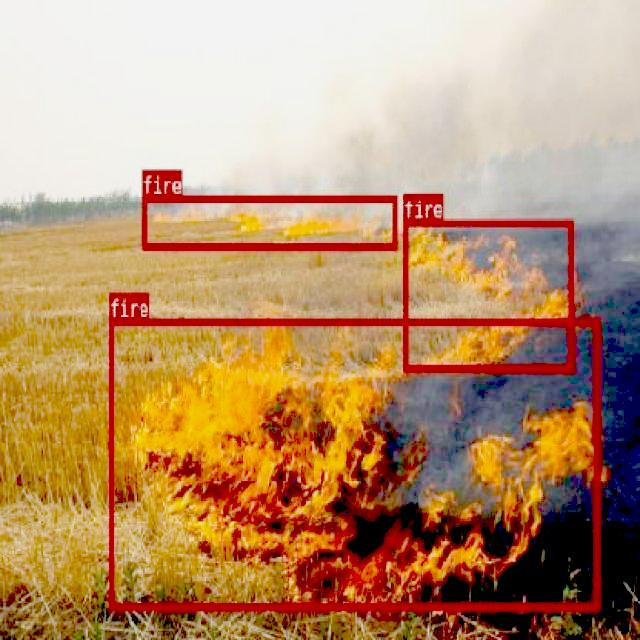fire: (107, 316, 598, 610), (402, 218, 573, 371), (141, 194, 397, 248)
